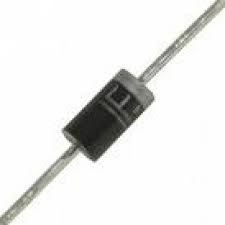diode: (42, 62, 181, 169)
